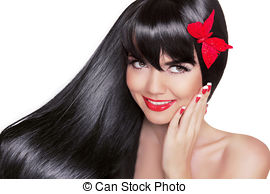face: (120, 13, 221, 128)
